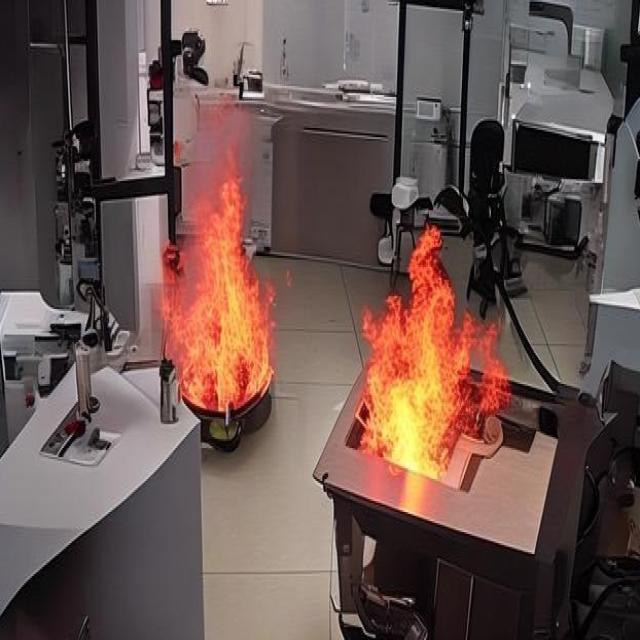smoke: (356, 206, 502, 484), (160, 163, 283, 428)
